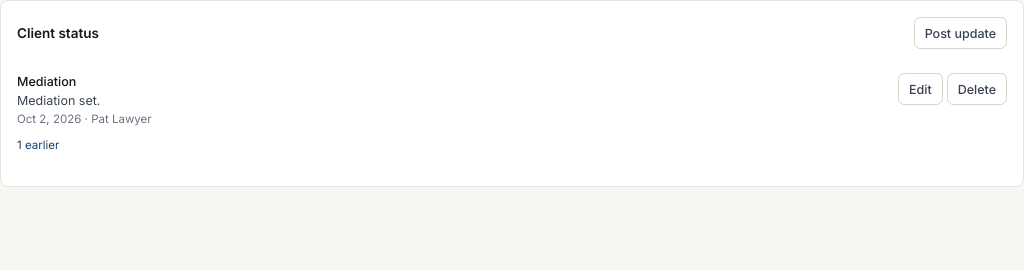
Test: ClientStatusCard › the earlier-updates toggle expands and collapses
The width and height of the screenshot is (1024, 270).
Click the button "1 earlier".
click(38, 145)  # box top-left (17, 137), bottom-right (59, 153)
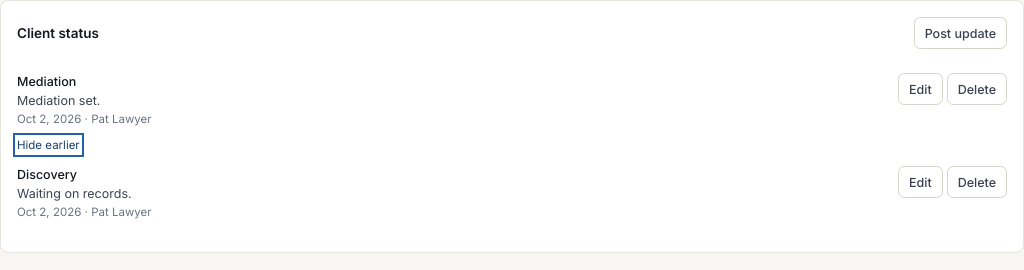
Expected: the text "Waiting on records." is shown, top-left (17, 186), bottom-right (132, 201)
Expected: the button "Hide earlier" is expanded
Click the button "Hide earlier".
click(48, 145)  # box top-left (17, 137), bottom-right (80, 153)
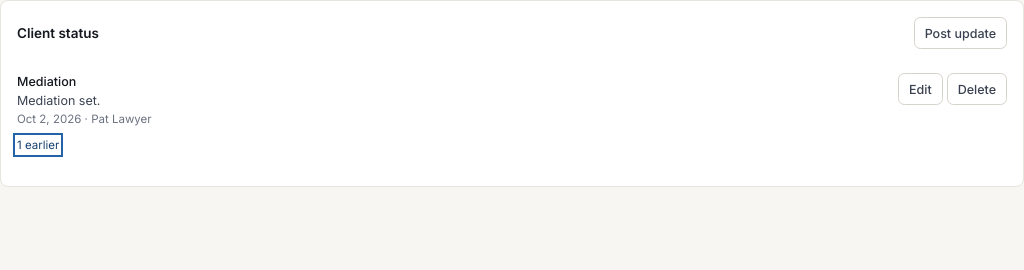
Expected: the text "Waiting on records." is gone
Expected: the button "1 earlier" is shown, top-left (17, 137), bottom-right (59, 153)
